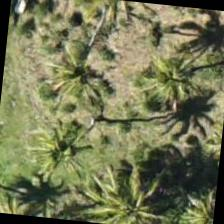Kelapa_Sawit: (124, 26, 224, 125), (18, 99, 118, 198), (23, 29, 122, 128), (72, 167, 169, 223), (159, 163, 219, 223)
